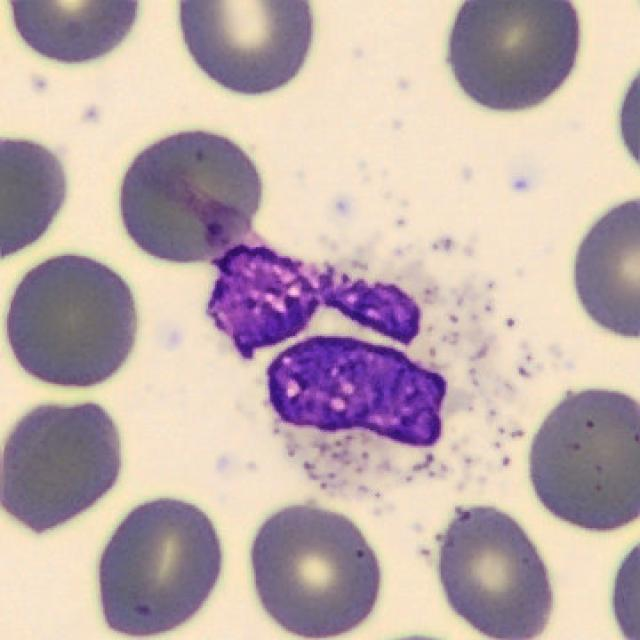Restos celulares: (208, 217, 501, 507)
